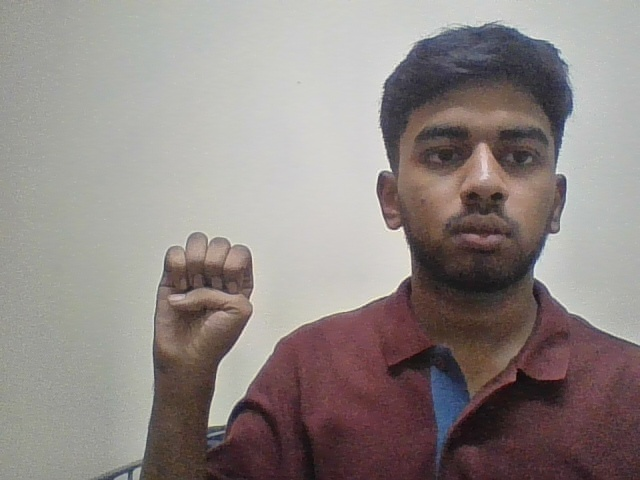E: (142, 220, 264, 381)
